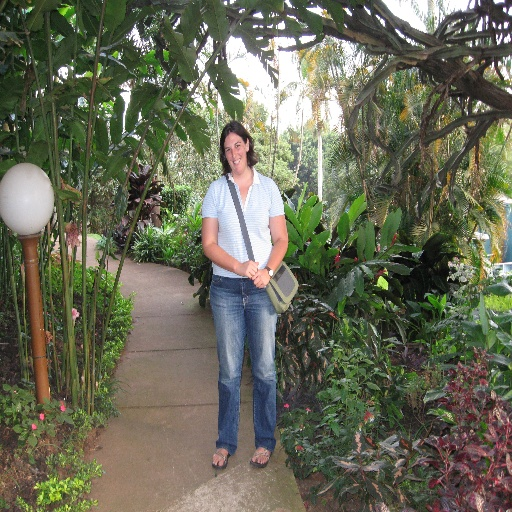hand: (251, 268, 270, 289), (241, 259, 258, 280)
